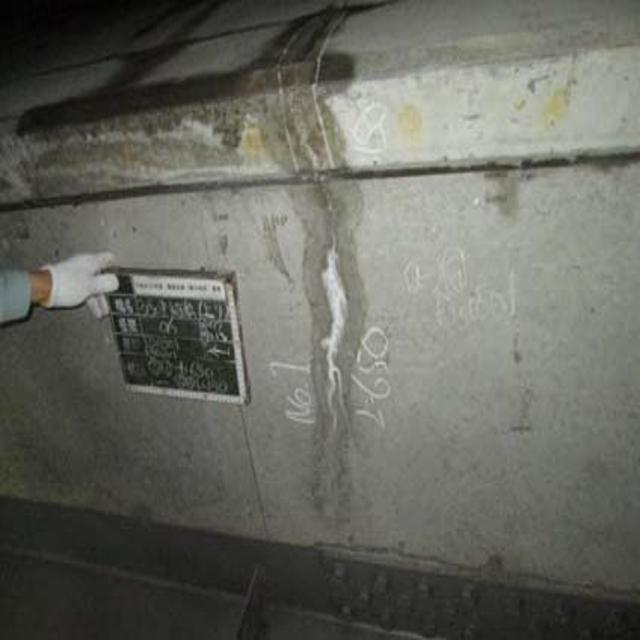freelime: (304, 226, 359, 414)
